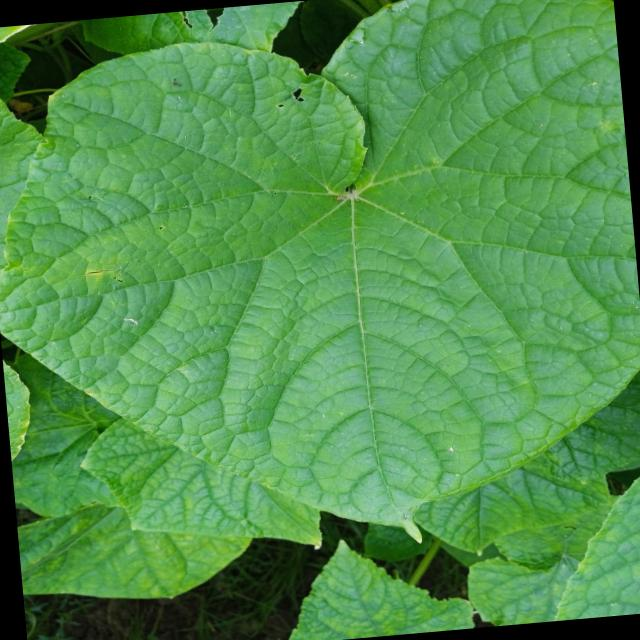cucumber_healthy: (0, 0, 640, 580), (72, 388, 334, 574), (16, 492, 250, 620), (273, 524, 478, 640)
